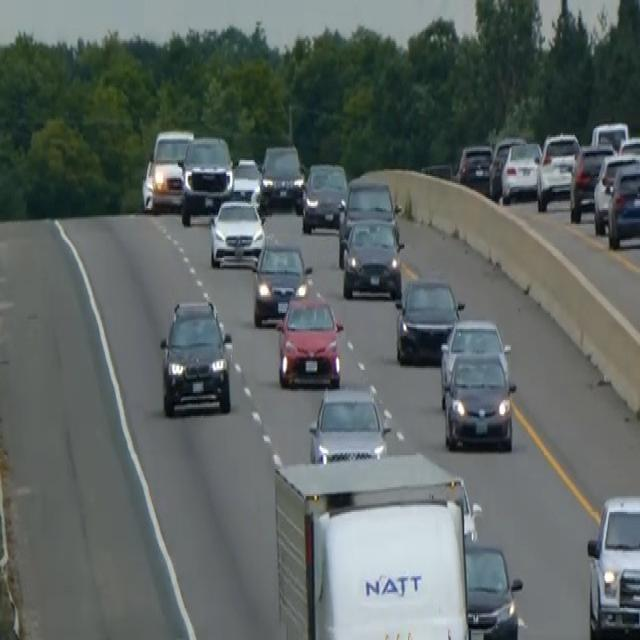car: (585, 491, 639, 638), (442, 348, 516, 452), (275, 278, 344, 388), (307, 384, 391, 464), (439, 317, 511, 407), (394, 276, 464, 364), (463, 537, 523, 638), (337, 176, 400, 265), (252, 238, 312, 327), (342, 214, 404, 300), (178, 133, 234, 224), (141, 126, 193, 214), (208, 196, 265, 268), (568, 142, 614, 222), (535, 130, 580, 210), (301, 160, 348, 233), (606, 160, 639, 249), (260, 140, 303, 208), (500, 138, 542, 202), (488, 134, 525, 198), (457, 140, 492, 192), (231, 155, 264, 208), (590, 119, 629, 151), (618, 134, 639, 166)
jeep: (157, 293, 234, 418)
lorry: (270, 450, 522, 638)
